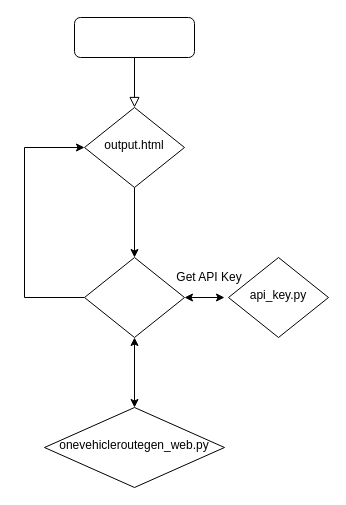
Image size: 346x505. Some labels were removed from this diagram. The centre of each missing label's shape, as x and y in pixels:
"index.html" goes at point (134, 37).
"webgui.py" goes at point (134, 297).
